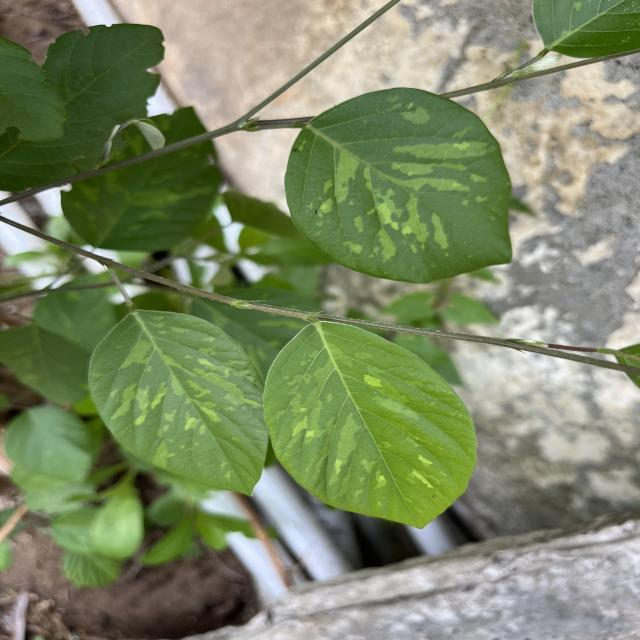Desmodium gangeticum: (258, 314, 482, 530), (281, 85, 517, 286), (85, 306, 267, 500)
